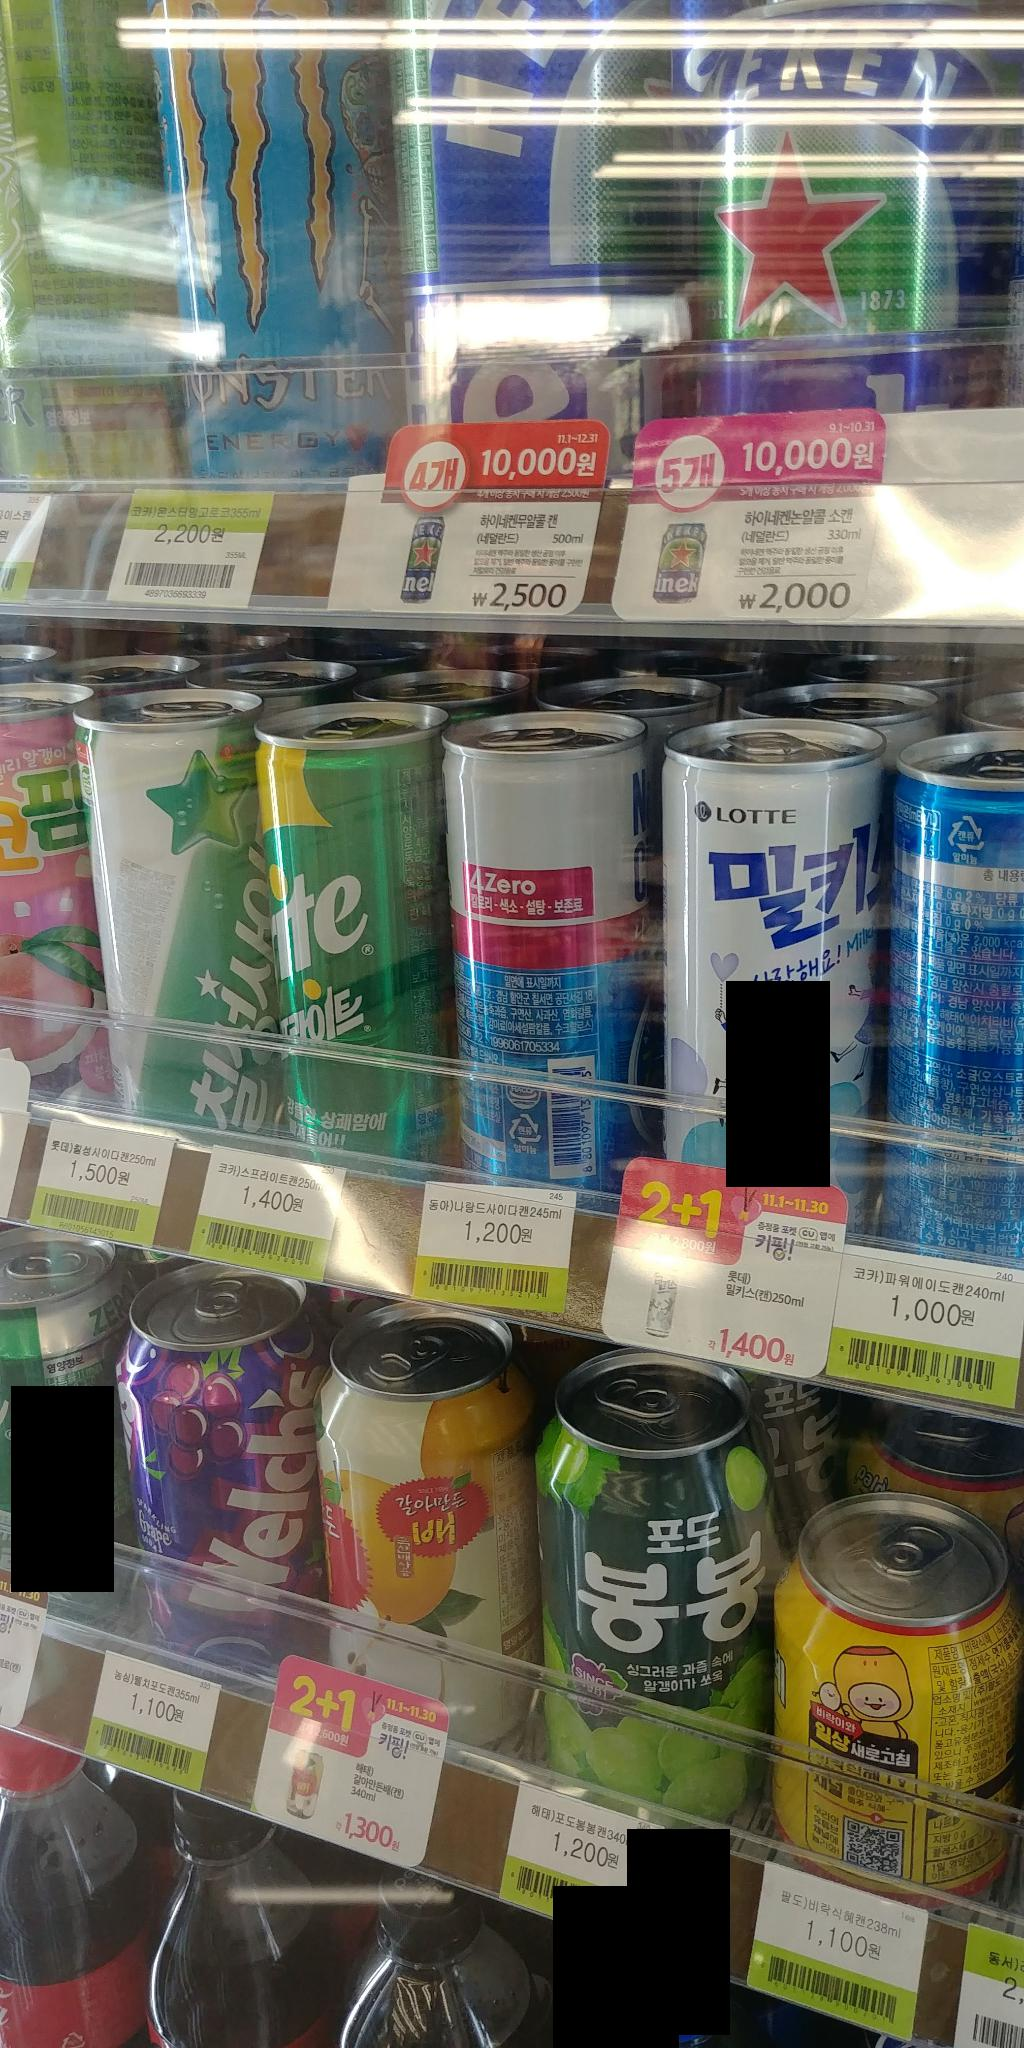narangdcider: (424, 690, 670, 1203)
welchs_grape: (119, 1260, 337, 1688)
